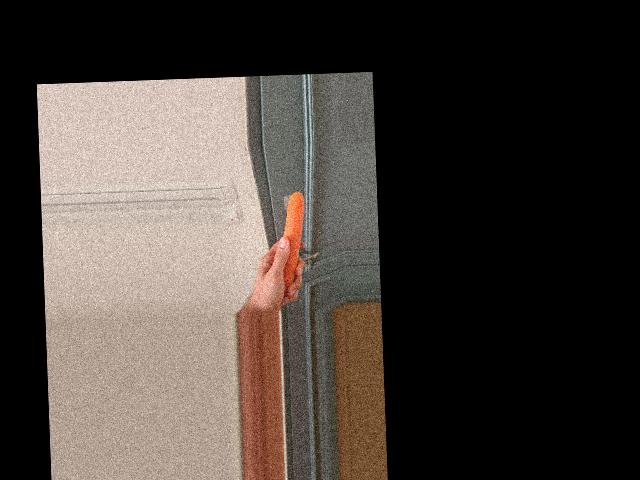carrot: (275, 191, 307, 297)
